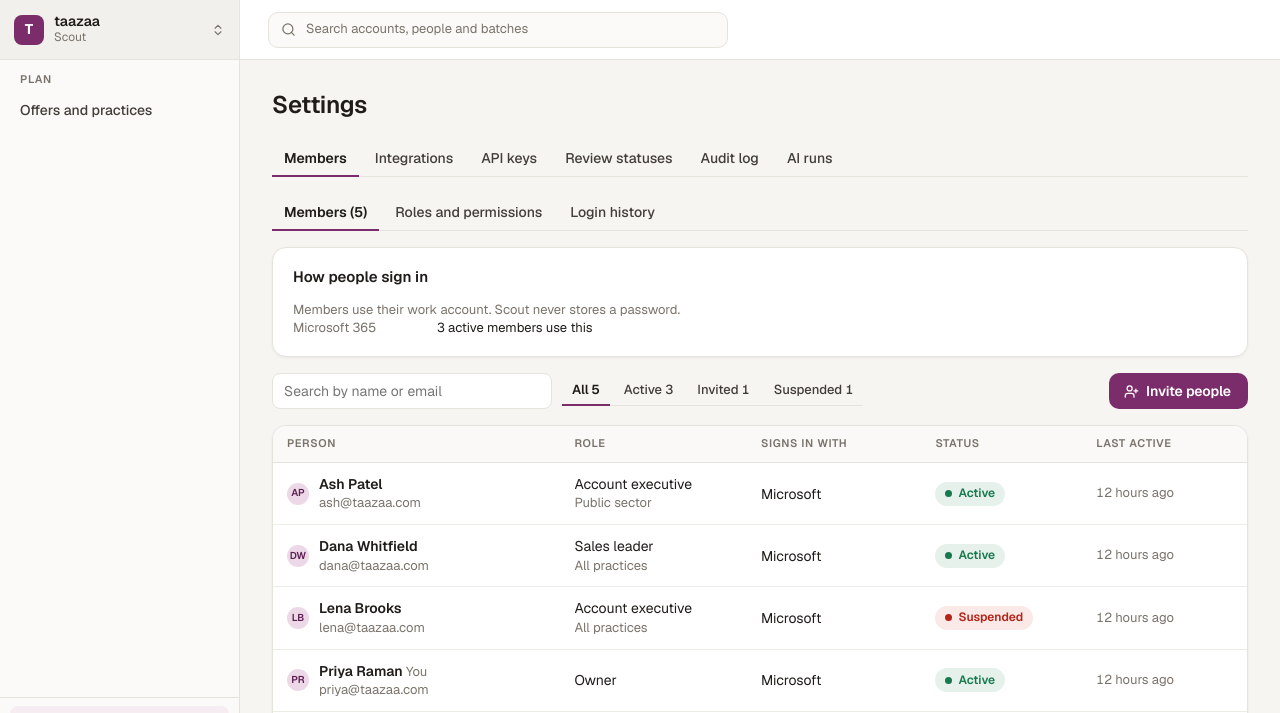
it: member drawer › locks your own role and suspend and remove for yourself
The width and height of the screenshot is (1280, 713).
Click the button "Priya Raman" at point(361, 671), box [319,660,403,681]
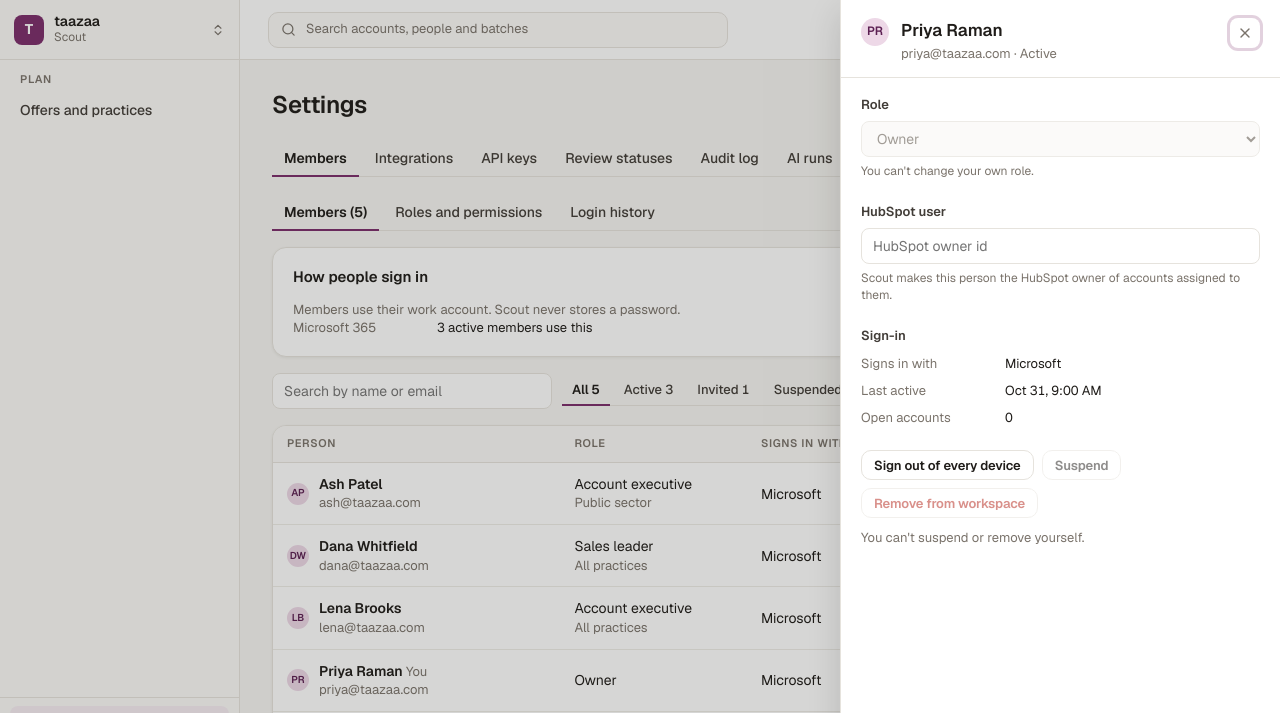
Result: the dropdown labelled "Role" is disabled at [861,121,1260,157]
Result: the button "Suspend" is disabled at [1042,450,1121,480]
Result: the button "Remove from workspace" is disabled at [861,488,1038,518]
